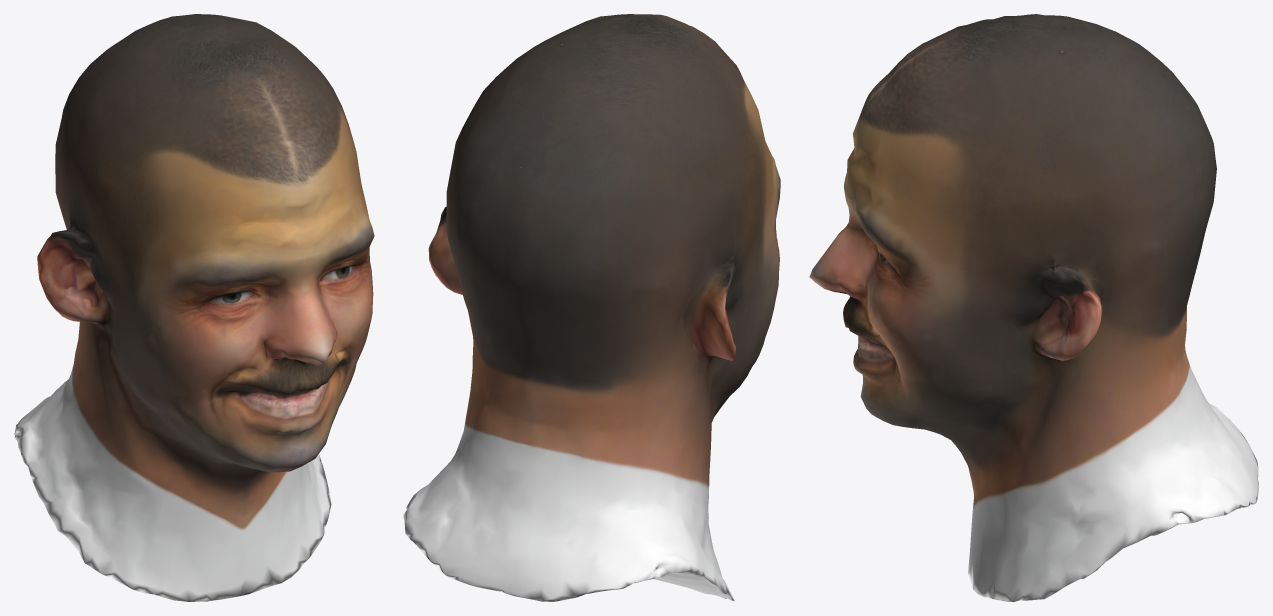
Rendered from Smiling_Portrait_0518115145_texture.glb.
3 views of the same model, side by side, from view 1: azimuth 30°, elevation 25°; view 2: azimuth 150°, elevation 25°; view 3: azimuth 270°, elevation 25° (orthographic). The views are drawn at different scales.
Bounding box in the file's own units: 1.11 × 2 × 1.5.
1 material, 1 textured.
